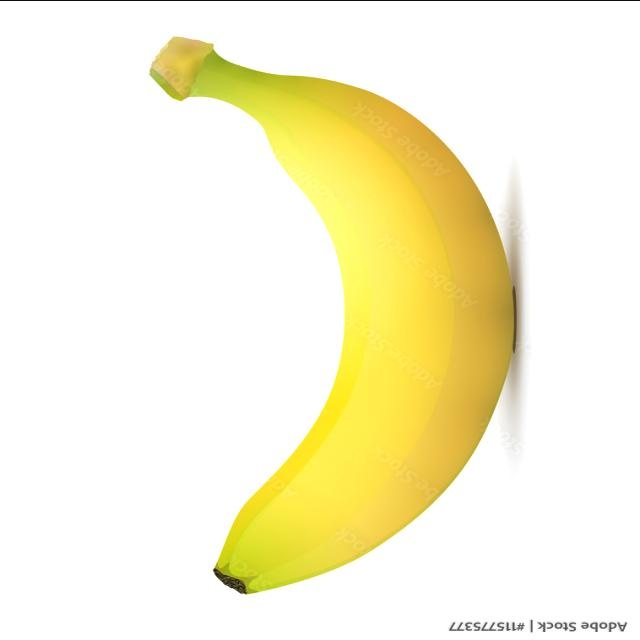agrume: (139, 29, 533, 600)
